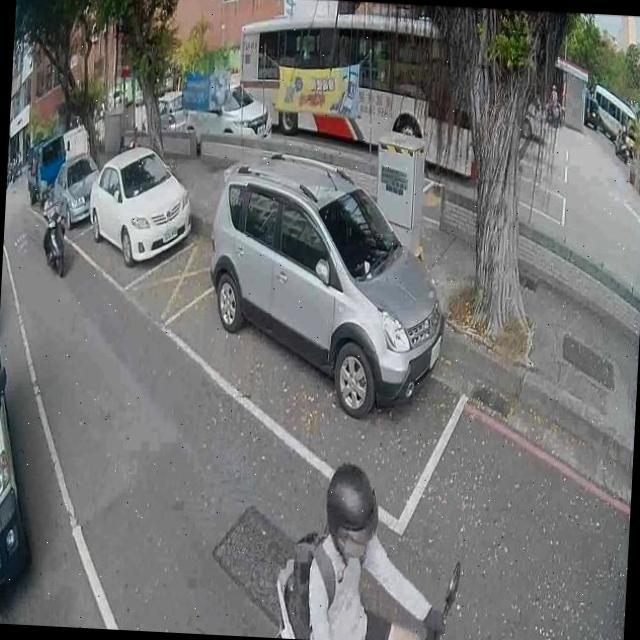person: (303, 455, 456, 640), (42, 182, 67, 262), (548, 78, 561, 125), (620, 122, 628, 144)
